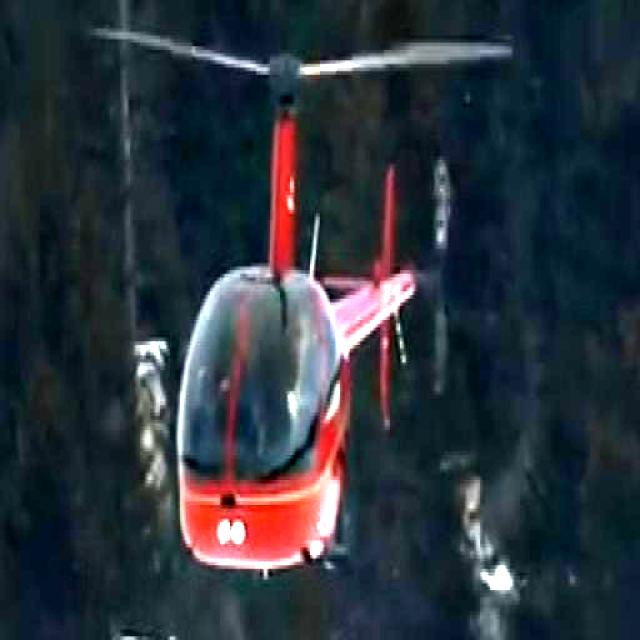drone: (71, 11, 520, 640)
